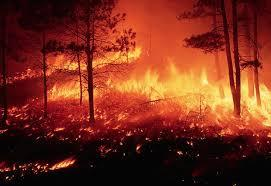fire: (98, 42, 271, 160), (0, 57, 89, 178)
